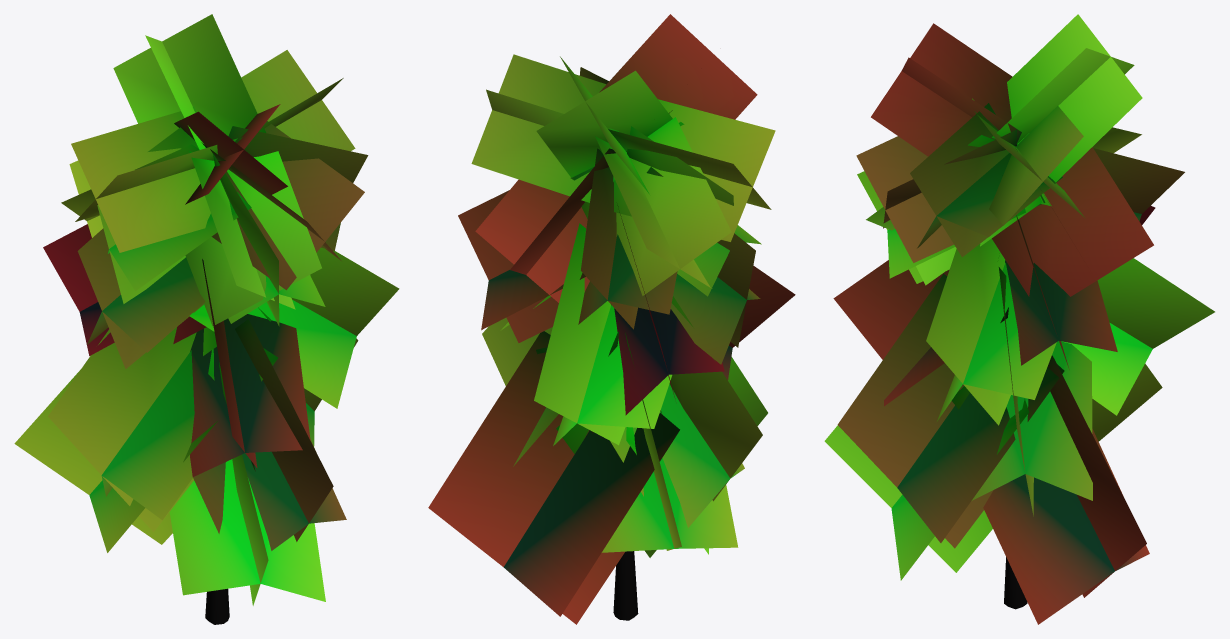
The model's file is Super_11_15.fbx.
The picture shows the model from 3 angles, left to right: view 1: azimuth 30°, elevation 25°; view 2: azimuth 150°, elevation 25°; view 3: azimuth 270°, elevation 25°; orthographic projection.
Parts seen in each view (by area): view 1: Super_11_15; view 2: Super_11_15; view 3: Super_11_15.
Part boxes in pixels (x1,y1,x2,y2): Super_11_15: (14,14,399,624); Super_11_15: (428,14,795,624); Super_11_15: (824,14,1214,624).
Bounding box in the file's own units: 1329 × 2398 × 1491.
